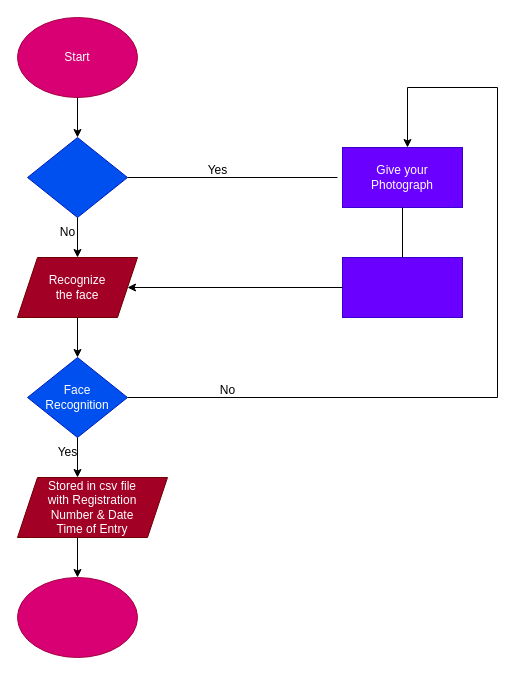
Image size: 516x675. Some labels were removed from this diagram. The shapes that lost their labels are listed below. From the top down, each one's centre as x and y in pixels, then its label:
At (77,177): "New User?".
At (402,287): "Store the face data in folder on your name".
At (77,617): "End".
